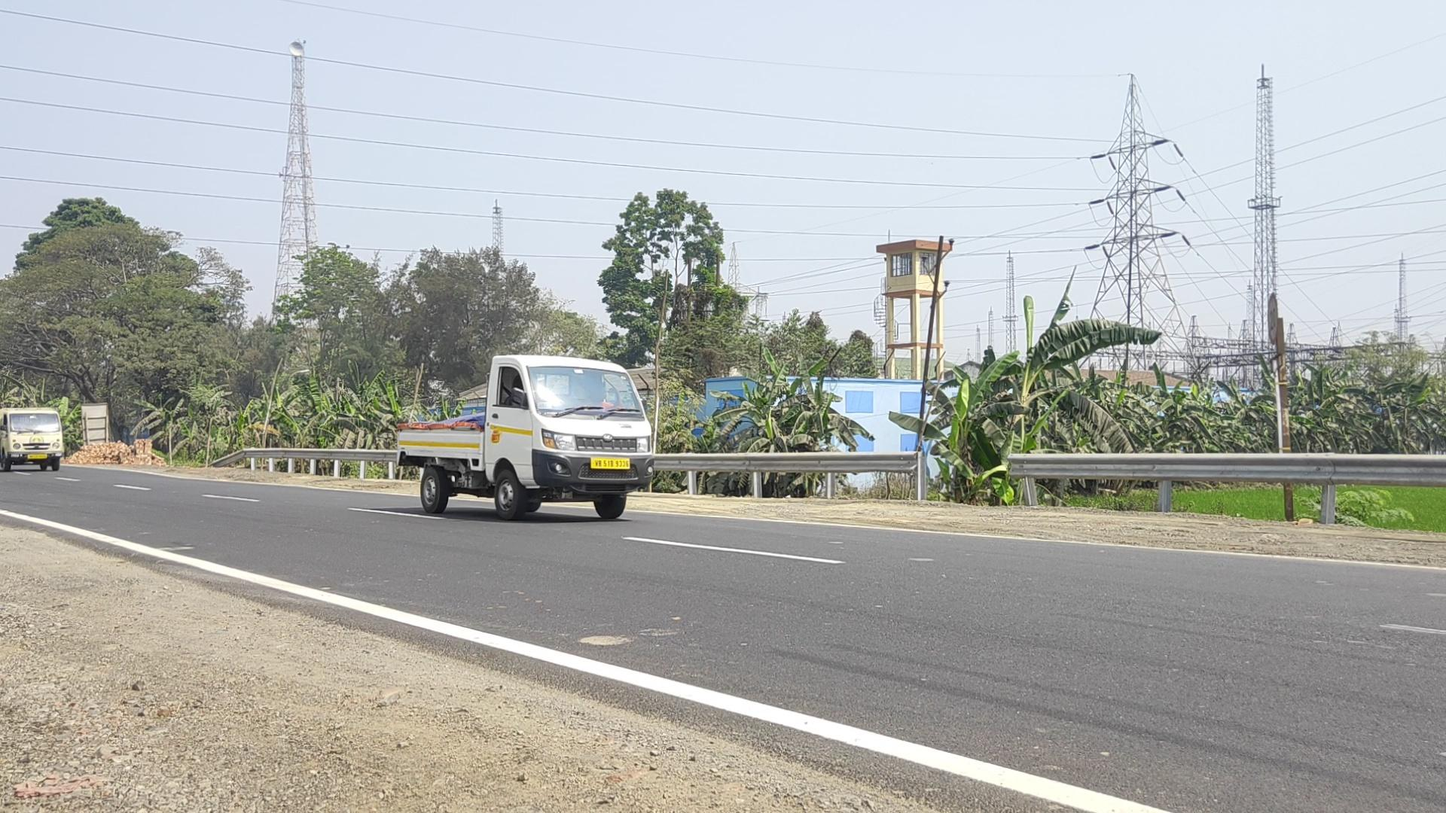van: (397, 354, 655, 521), (1, 406, 65, 473)
